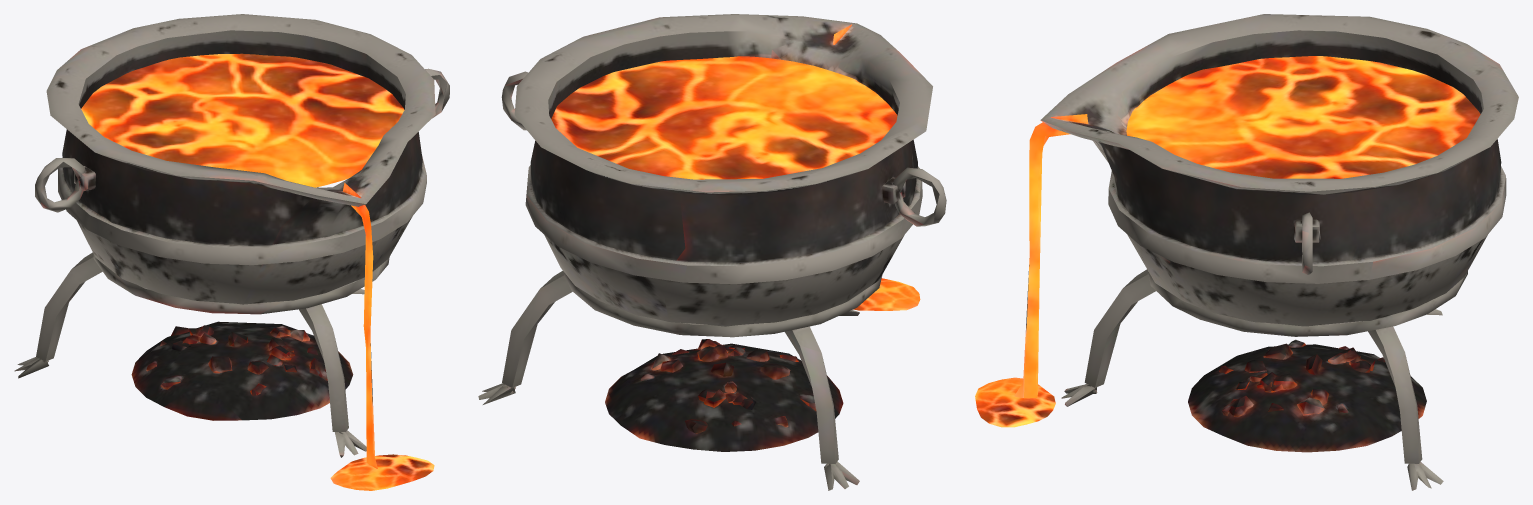
The model's file is hellforge_cauldron.glb.
The picture shows the model from 3 angles, left to right: view 1: azimuth 30°, elevation 25°; view 2: azimuth 150°, elevation 25°; view 3: azimuth 270°, elevation 25°; orthographic projection. The views are drawn at different scales.
Parts seen in each view (by area): view 1: hellforge_cauldron; view 2: hellforge_cauldron; view 3: hellforge_cauldron.
Boxes of the visible parts, <box> form: hellforge_cauldron: <box>14,14,449,490</box>; hellforge_cauldron: <box>478,14,946,490</box>; hellforge_cauldron: <box>975,14,1518,490</box>.
Size of the model in its own units: 1.55 by 1.01 by 1.64.
1 material, 1 textured.
